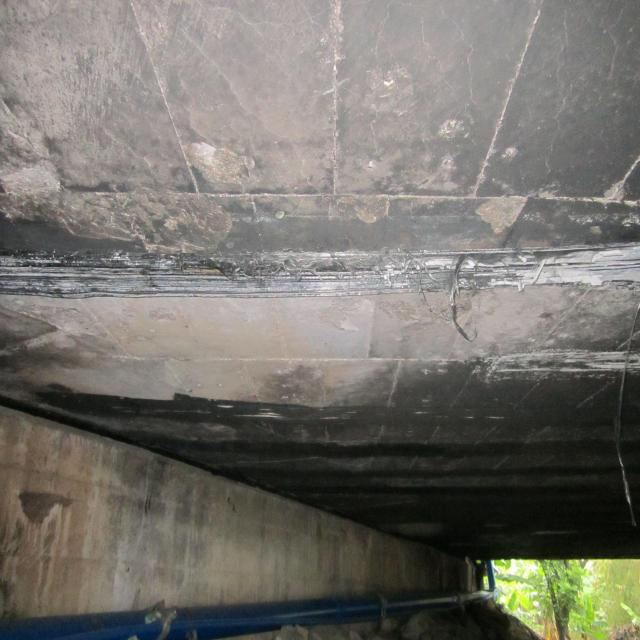concrete spalling: (474, 194, 528, 237)
